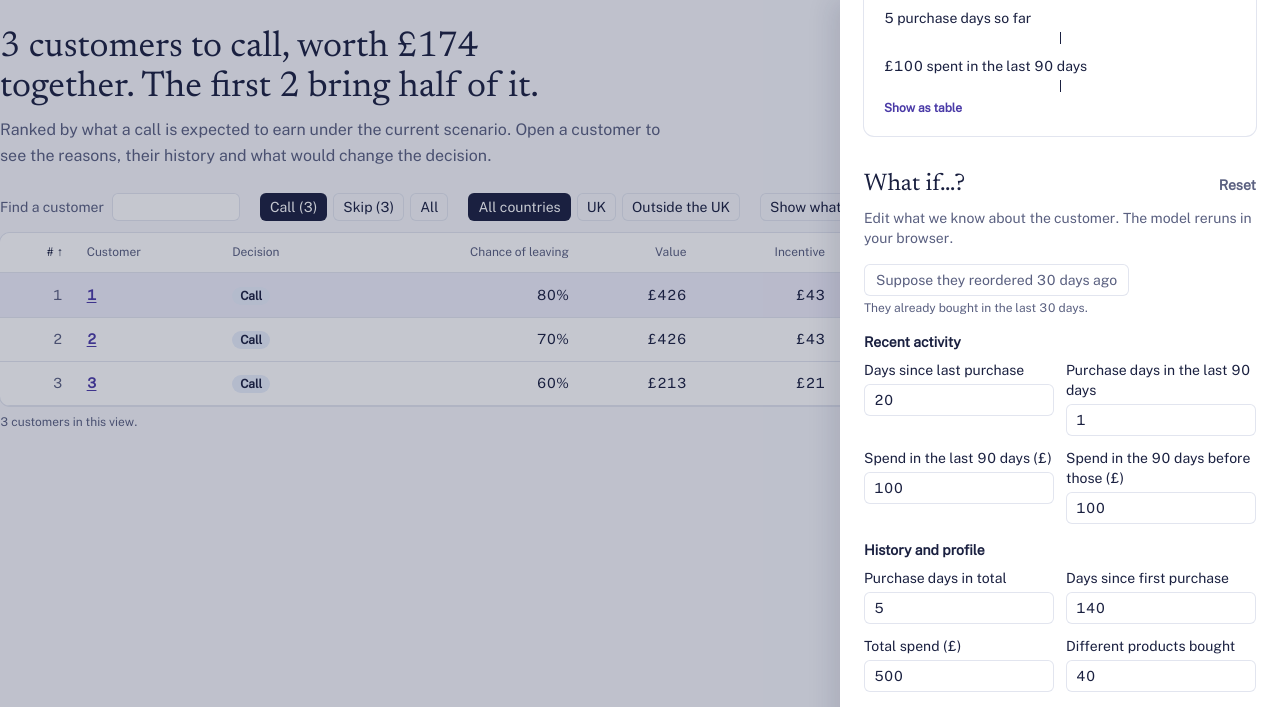
Test case: without a model in this browser, the drawer still works around the what-if
The width and height of the screenshot is (1280, 707).
(page scrolled)
Expected: the 1st heading is shown, [0,30,539,106]
Replace the text in the field labelled "Days since last purchase" with "60" at (959, 400), box [864,384,1054,416]
(page scrolled)
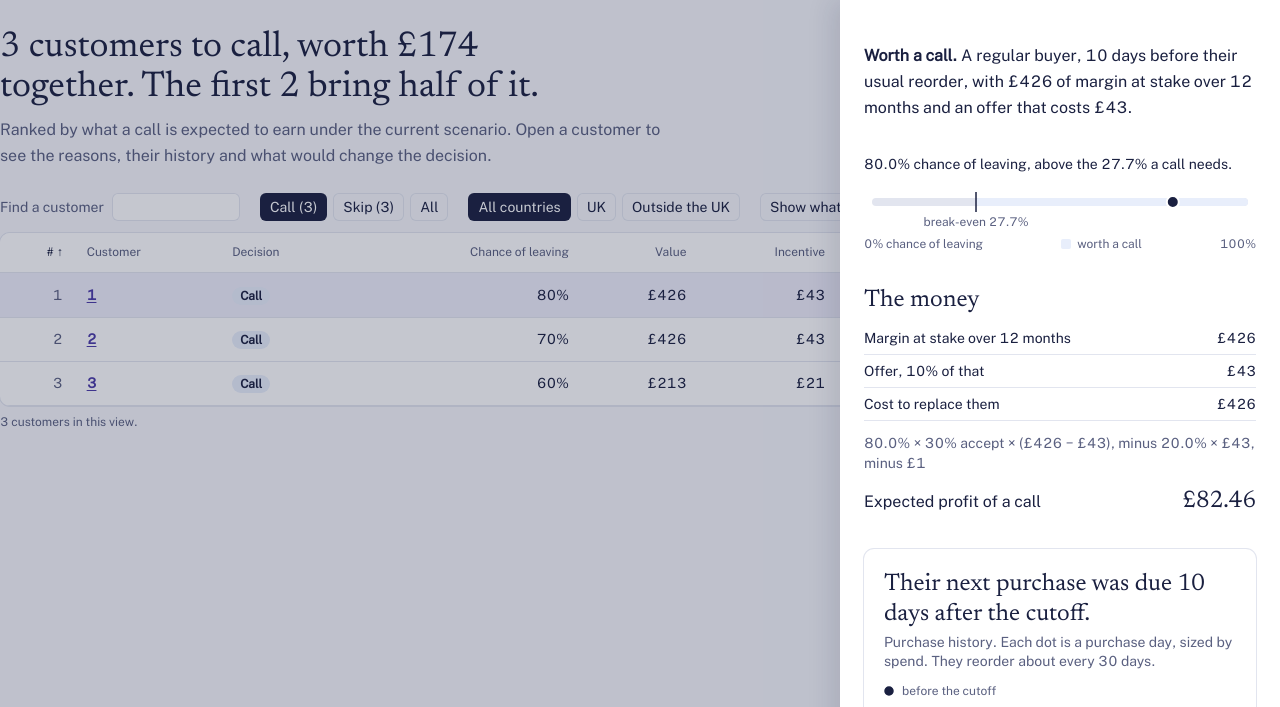
Expected: the element "The money" is shown, [864,284,1256,517]
